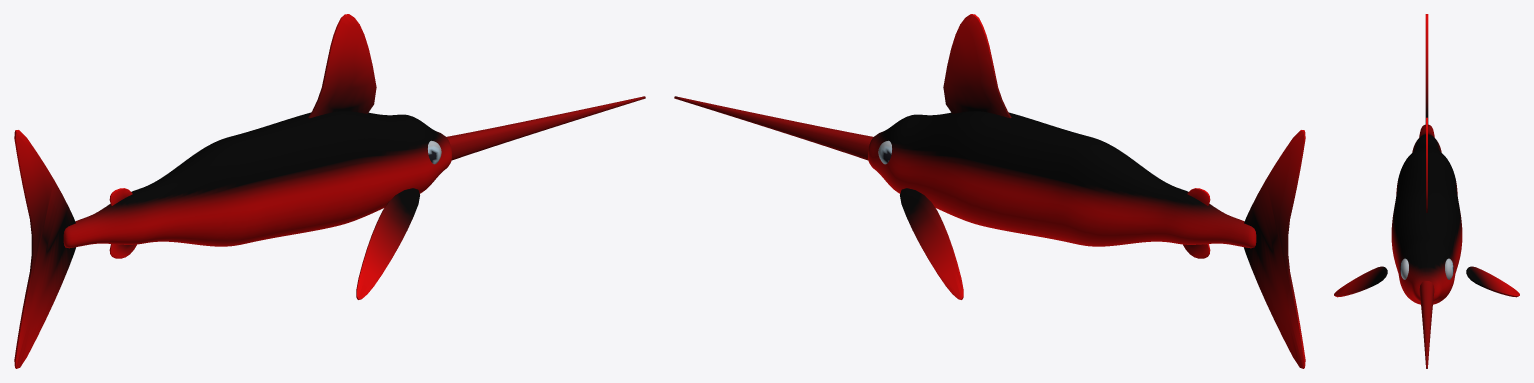
File: swordfish.glb
The picture shows the model from 3 angles, left to right: view 1: azimuth 30°, elevation 25°; view 2: azimuth 150°, elevation 25°; view 3: azimuth 270°, elevation 25°; orthographic projection. The views are drawn at different scales.
Visible parts, largest first — view 1: Swordfish; view 2: Swordfish; view 3: Swordfish, SwordfishEyes.
Boxes of the visible parts, box(x1,y1,x2,y2) form: Swordfish: box(14, 14, 645, 368); Swordfish: box(674, 14, 1305, 368); Swordfish: box(1334, 14, 1519, 368); SwordfishEyes: box(1400, 258, 1453, 279).
Size of the model in its own units: 2.54 by 1.05 by 0.7811.
